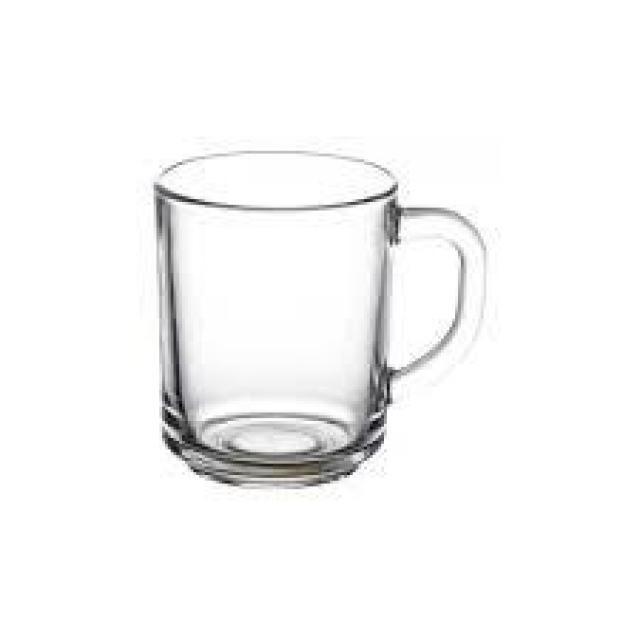non-organic waste: (148, 152, 489, 491)
